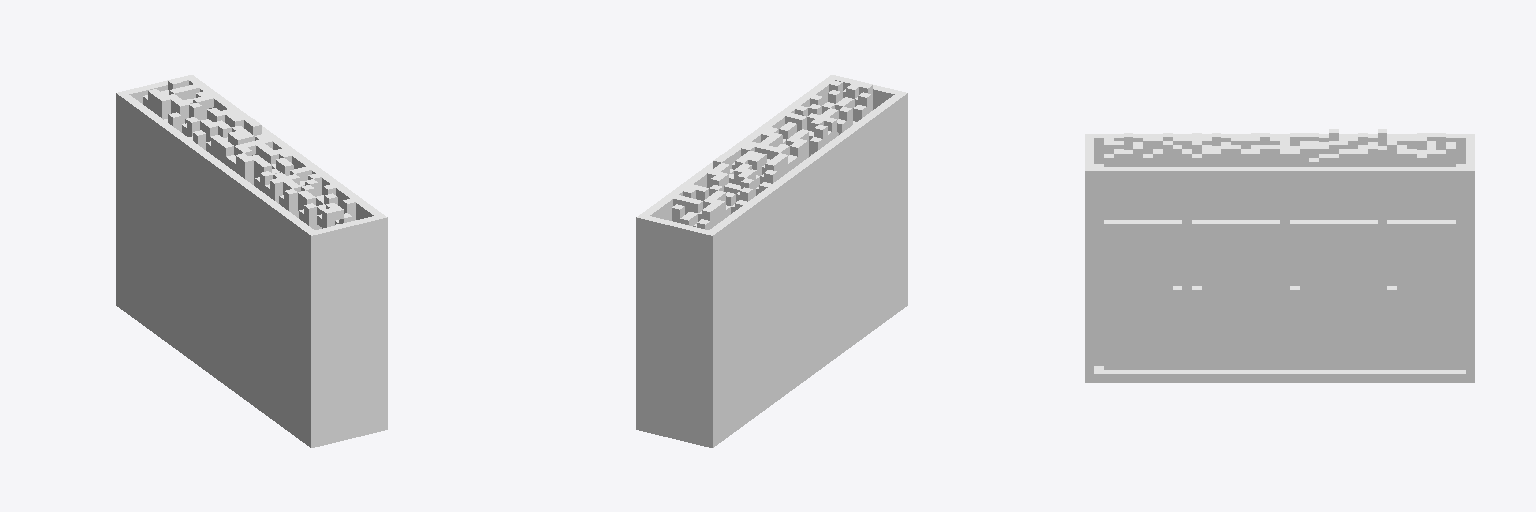
File: bedbox_10_40_25.obj
3 views of the same model, side by side, from view 1: azimuth 30°, elevation 25°; view 2: azimuth 150°, elevation 25°; view 3: azimuth 270°, elevation 25° (orthographic).
Visible parts, largest first — view 1: object 1; view 2: object 1; view 3: object 1.
Boxes of the visible parts, x1=… form: object 1: x1=116, y1=75, x2=387, y2=447; object 1: x1=636, y1=75, x2=907, y2=447; object 1: x1=1085, y1=129, x2=1474, y2=382.
Size of the model in its own units: 1 by 2.5 by 4.